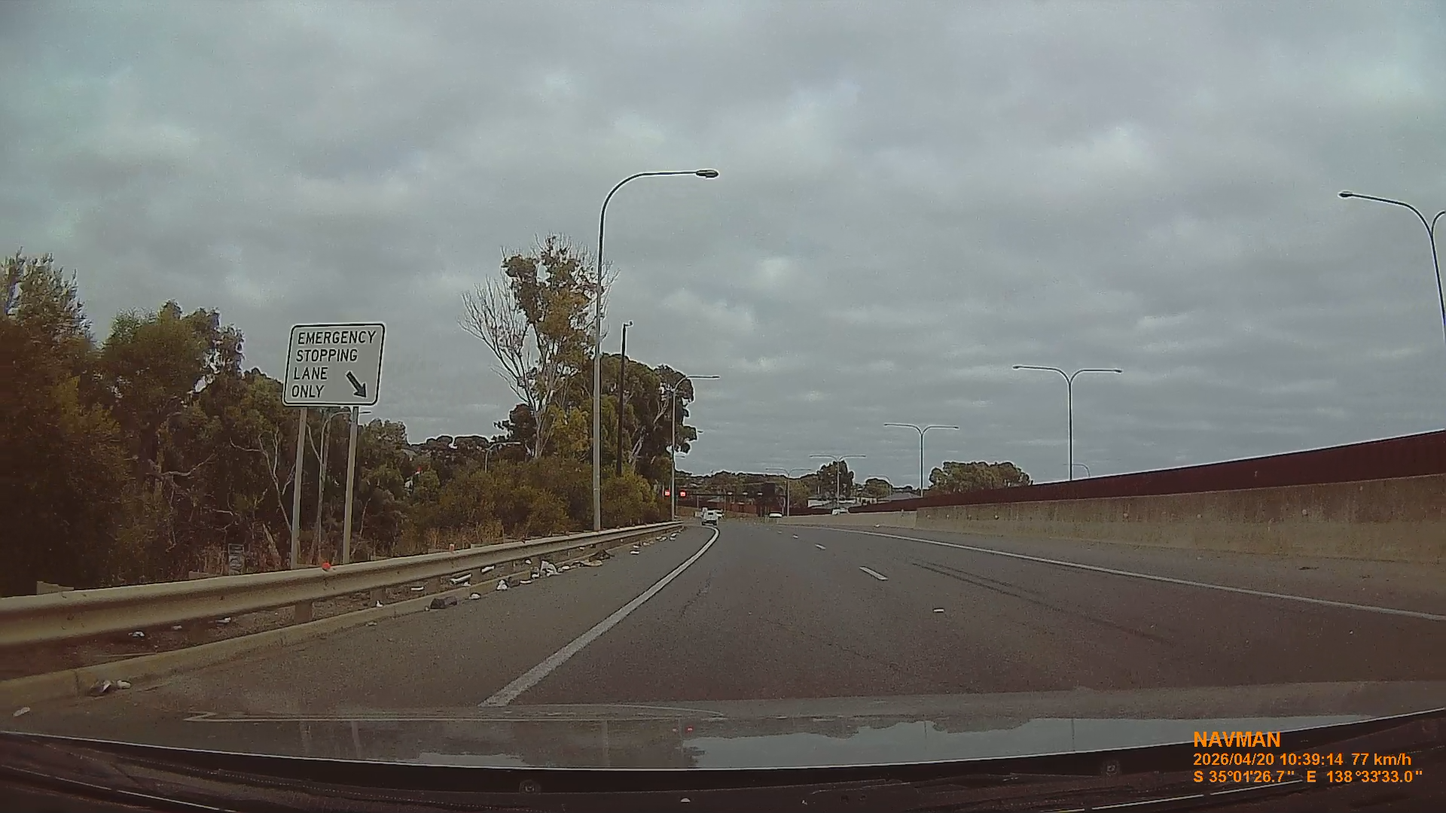road barriers: (0, 522, 677, 679), (898, 475, 1445, 583)
